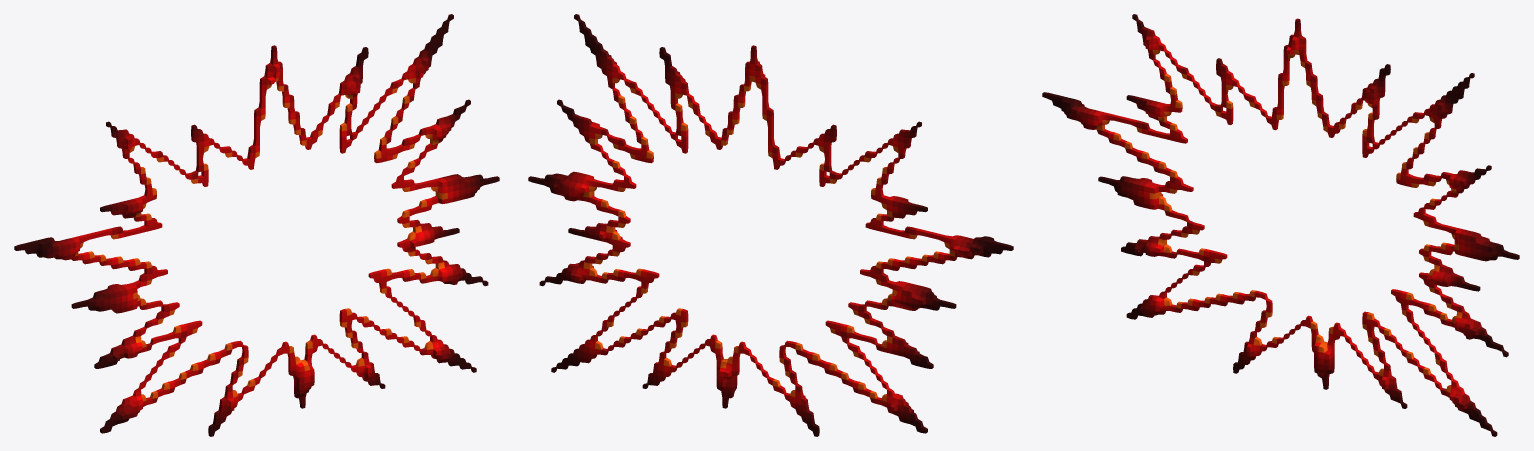
The model's file is Fight_740_2_16.obj.
3 renders of one model, left to right at view 1: azimuth 30°, elevation 25°; view 2: azimuth 150°, elevation 25°; view 3: azimuth 330°, elevation 25°, orthographic.
Bounding box in the file's own units: 8.46 × 6.26 × 0.3.
Materials: 1 (1 with a texture image).
